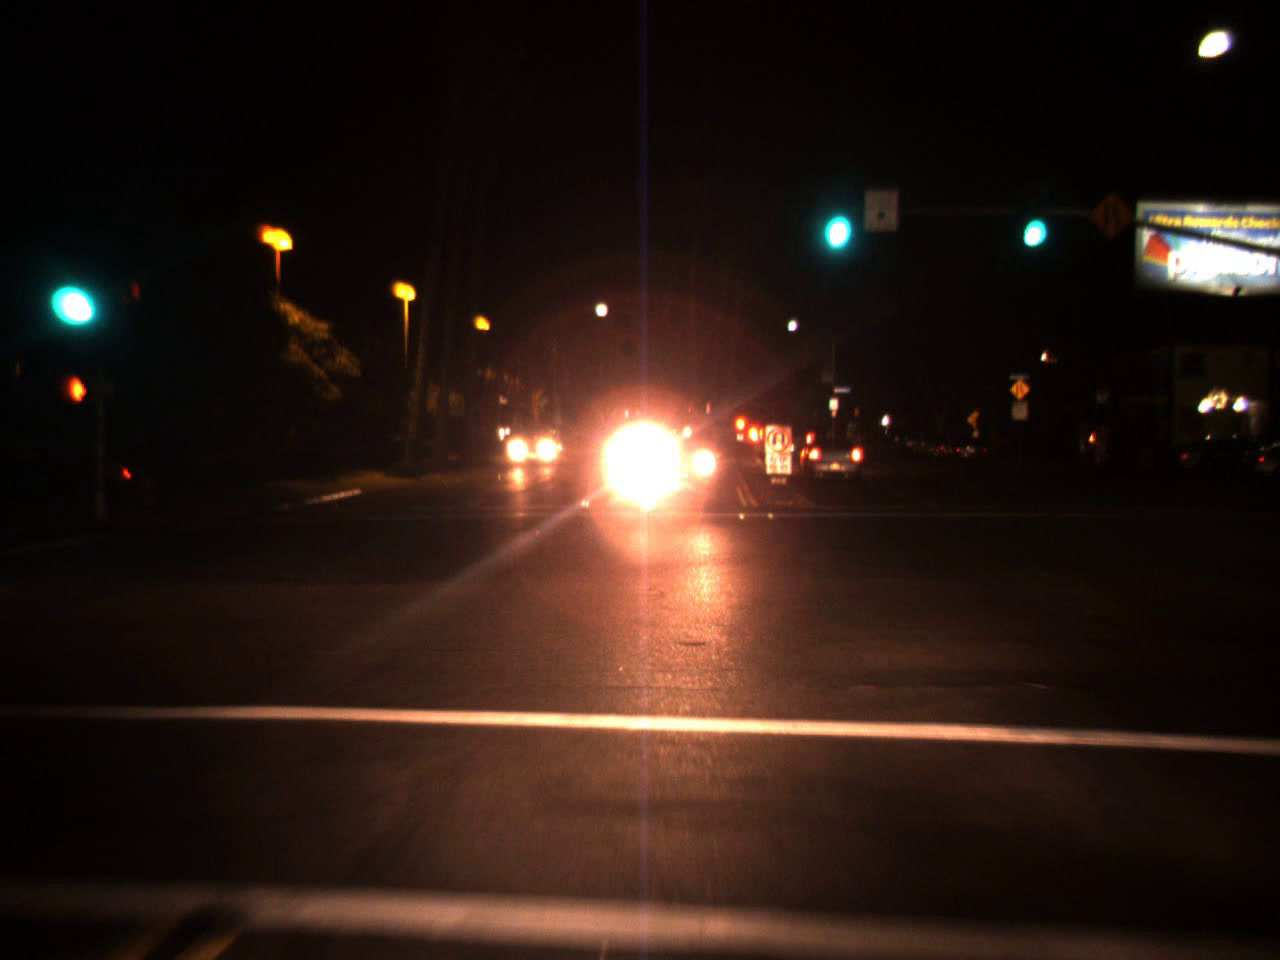go: (48, 250, 98, 334), (811, 174, 857, 261), (1014, 183, 1051, 258)
